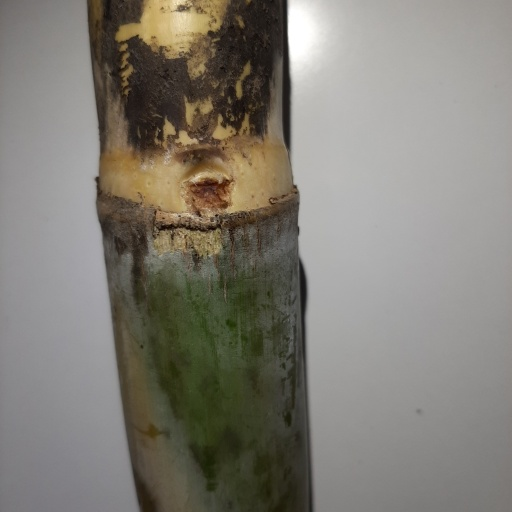Damage_Bud: (186, 165, 232, 213)
